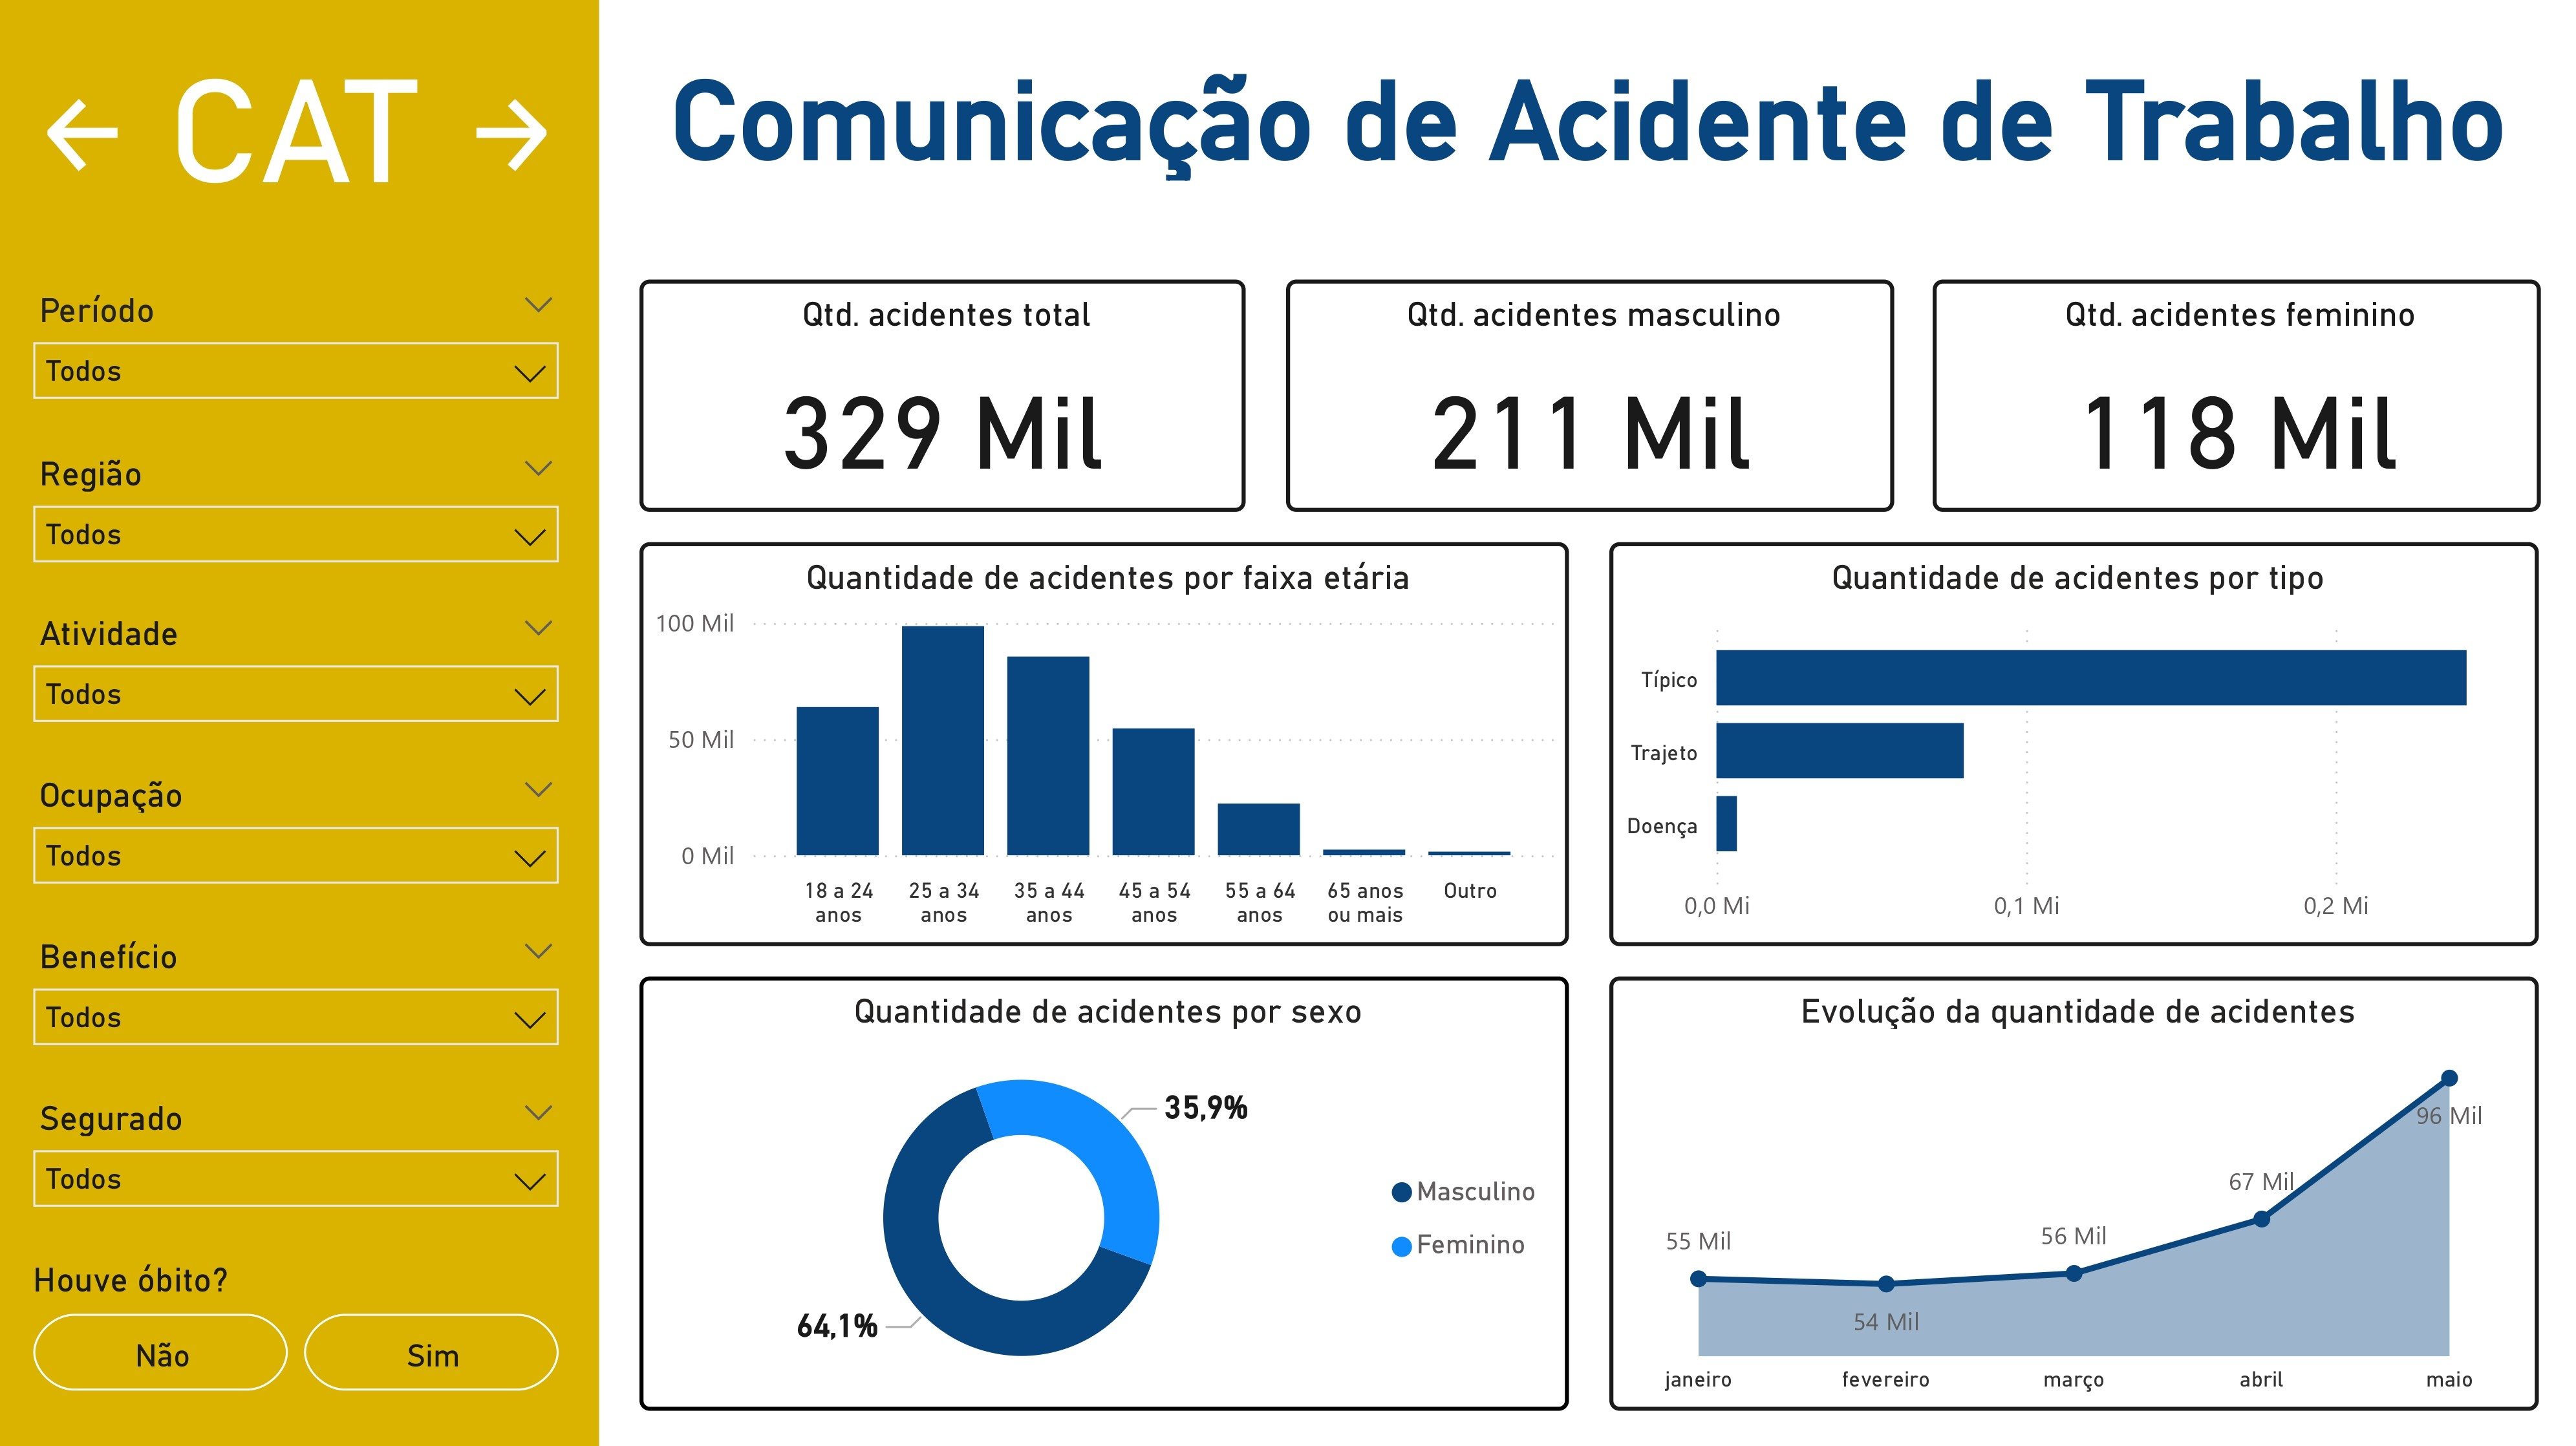

What the dashboard file says about the page in this screenshot:
{"tool":"powerbi","page":{"name":"Distribuição demográfica","canvas":[1280,720],"ordinal":1},"visuals":[{"type":"shape","box":[0,0,299.5,720],"z":0},{"type":"shape","box":[300,0,980,120],"z":1000},{"type":"card","title":"Qtd. acidentes total","fields":{"Values":["Medidas.qtd_acidentes"]},"box":[320,140,300,115],"z":2000},{"type":"card","title":"Qtd. acidentes masculino","fields":{"Values":["Medidas.qtd_masculino"]},"box":[640,140,301,115],"z":3000},{"type":"card","title":"Qtd. acidentes feminino","fields":{"Values":["Medidas.qtd_feminino"]},"box":[960,140,301,115],"z":4000},{"type":"clusteredColumnChart","title":"Quantidade de acidentes por faixa etária","fields":{"Y":["Medidas.qtd_acidentes"],"Category":["catweb_v2.faixa_etaria"]},"box":[320,270,460,200],"z":5000},{"type":"lineChart","title":"Evolução da quantidade de acidentes","fields":{"Category":["catweb_v2.dt_acidente.Variation.Hierarquia de datas.Mês"],"Y":["Medidas.qtd_acidentes"]},"box":[800,485,460,215],"z":6000},{"type":"donutChart","title":"Quantidade de acidentes por sexo","fields":{"Y":["Medidas.qtd_acidentes"],"Category":["catweb_v2.nm_sexo"]},"box":[320,485,460,215],"z":7000},{"type":"barChart","title":"Quantidade de acidentes por tipo","fields":{"Y":["Medidas.qtd_acidentes"],"Category":["catweb_v2.tipo_acidente"]},"box":[800,270,460,200],"z":8000},{"type":"slicer","fields":{"Values":["catweb_v2.dt_acidente.Variation.Hierarquia de datas.Mês"]},"box":[10,140,280,70],"z":9000},{"type":"slicer","fields":{"Values":["dim_mun.nm_uf","dim_mun.nm_mun"]},"box":[10,220.8,280,70],"z":10000},{"type":"slicer","fields":{"Values":["dim_cnae.nm_classe"]},"box":[10,300,280,70],"z":11000},{"type":"slicer","fields":{"Values":["dim_cbo.nm_cbo"]},"box":[10,380,280,70],"z":12000},{"type":"advancedSlicerVisual","title":"Houve óbito?","fields":{"Values":["catweb_v2.indica_obito"]},"box":[15,620,270,75],"z":13000},{"type":"slicer","fields":{"Values":["catweb_v2.tipo_beneficio"]},"box":[10.1,460,280,70],"z":14000},{"type":"slicer","fields":{"Values":["catweb_v2.tipo_segurado"]},"box":[10,540,280,70],"z":15000},{"type":"actionButton","box":[20,46,50,45],"z":16000},{"type":"actionButton","box":[230,46,50,45],"z":17000}]}

Visuals, with their boxes in screenshot pixels (x1, y1, x2, y2), scaled from the page's 1280x720 canvas onto the 2576x1446 screenshot:
shape: rect(0, 0, 603, 1445)
shape: rect(604, 0, 2575, 241)
"Qtd. acidentes total" card: rect(644, 281, 1248, 512)
"Qtd. acidentes masculino" card: rect(1288, 281, 1894, 512)
"Qtd. acidentes feminino" card: rect(1932, 281, 2538, 512)
"Quantidade de acidentes por faixa etária" clusteredColumnChart: rect(644, 542, 1570, 944)
"Evolução da quantidade de acidentes" lineChart: rect(1610, 974, 2536, 1406)
"Quantidade de acidentes por sexo" donutChart: rect(644, 974, 1570, 1406)
"Quantidade de acidentes por tipo" barChart: rect(1610, 542, 2536, 944)
slicer - catweb_v2.dt_acidente.Variation.Hierarquia de datas.Mês: rect(20, 281, 584, 421)
slicer - dim_mun.nm_uf x dim_mun.nm_mun: rect(20, 443, 584, 584)
slicer - dim_cnae.nm_classe: rect(20, 602, 584, 743)
slicer - dim_cbo.nm_cbo: rect(20, 763, 584, 904)
"Houve óbito?" advancedSlicerVisual: rect(30, 1245, 574, 1396)
slicer - catweb_v2.tipo_beneficio: rect(20, 924, 584, 1065)
slicer - catweb_v2.tipo_segurado: rect(20, 1085, 584, 1225)
actionButton: rect(40, 92, 141, 183)
actionButton: rect(463, 92, 564, 183)
